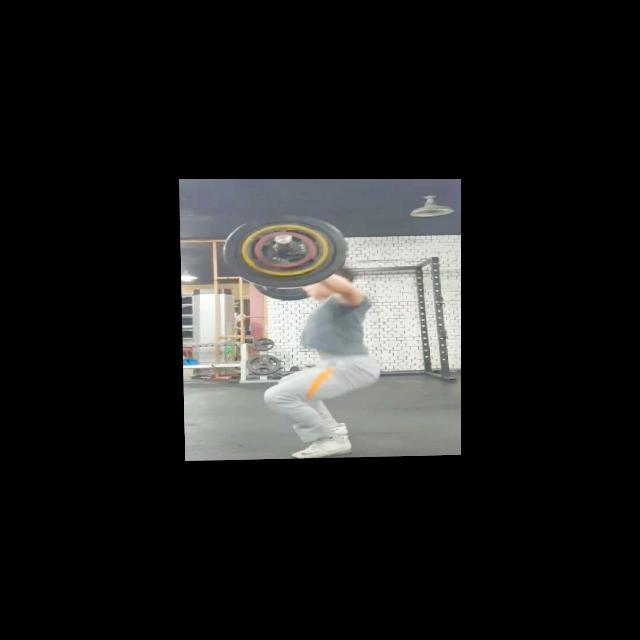barbell: (219, 212, 349, 293)
